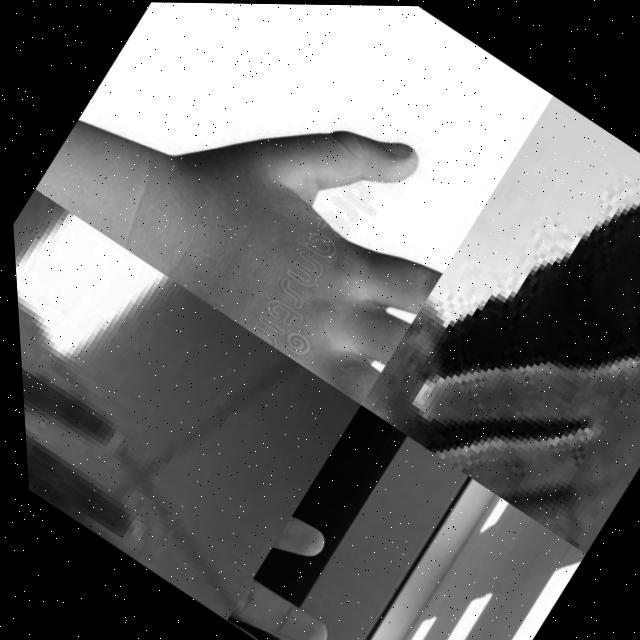no-gloves: (88, 24, 496, 406), (357, 168, 640, 554), (14, 314, 204, 570), (212, 497, 400, 640)
